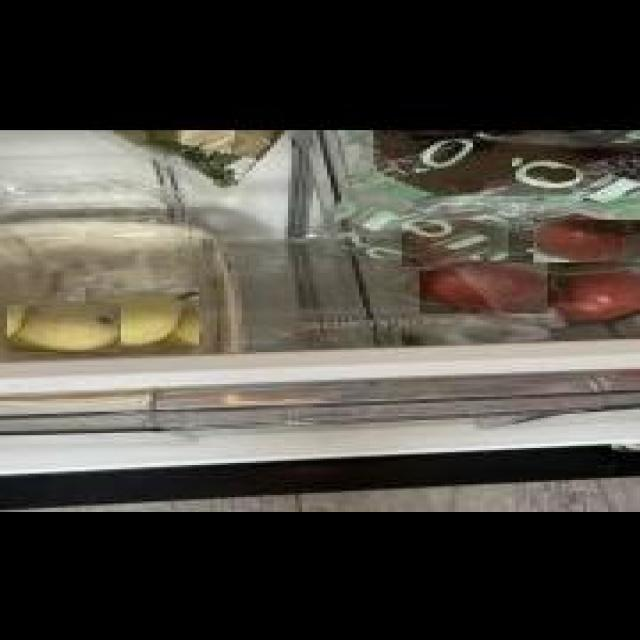pear: (85, 286, 199, 345), (7, 303, 121, 350)
tomato: (420, 260, 548, 310), (544, 262, 640, 316), (402, 218, 508, 264), (533, 218, 640, 260)
